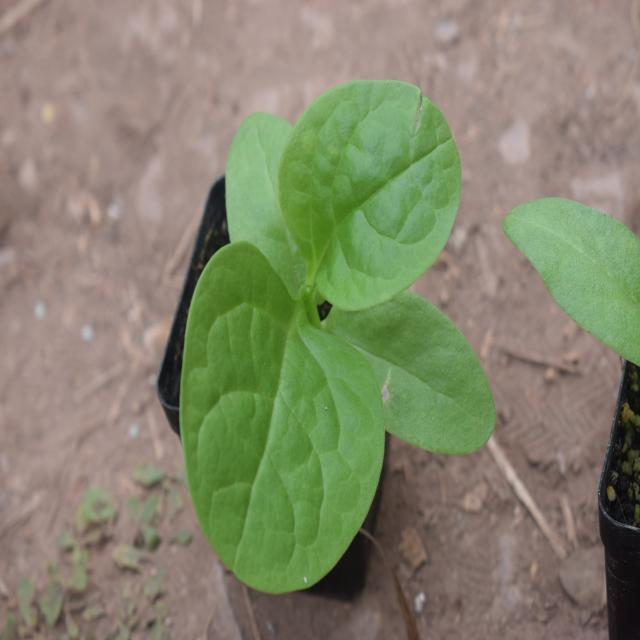Ceylon spinach: (168, 64, 500, 577)
